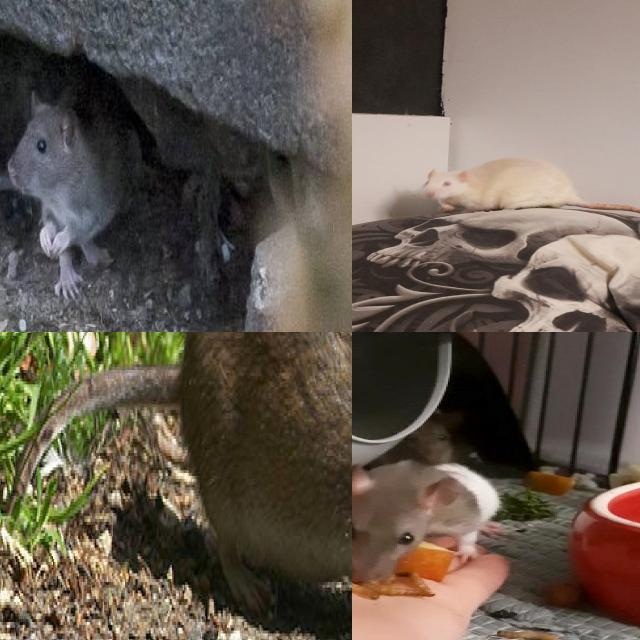rat: (184, 332, 352, 559), (10, 87, 131, 303), (352, 460, 506, 584), (420, 153, 578, 217)
